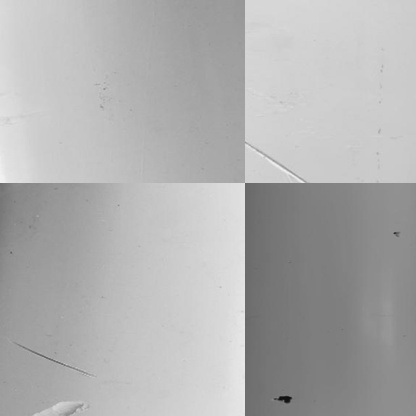kongdong: (273, 390, 304, 406)
sunshang: (243, 136, 307, 183), (15, 341, 92, 375), (38, 398, 93, 413)
